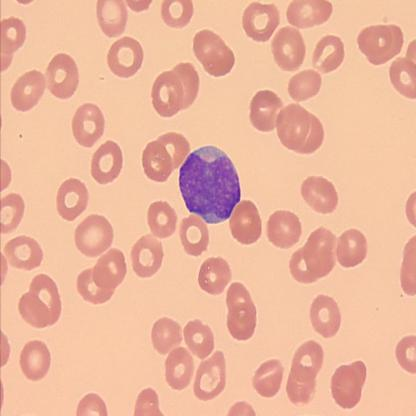Blast: (177, 141, 242, 226)
